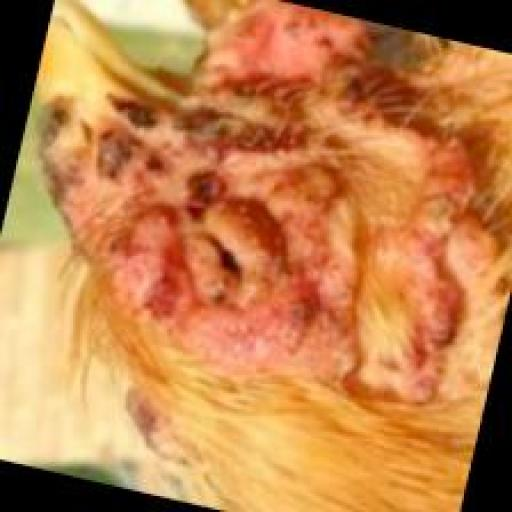disease: (36, 0, 510, 468)
